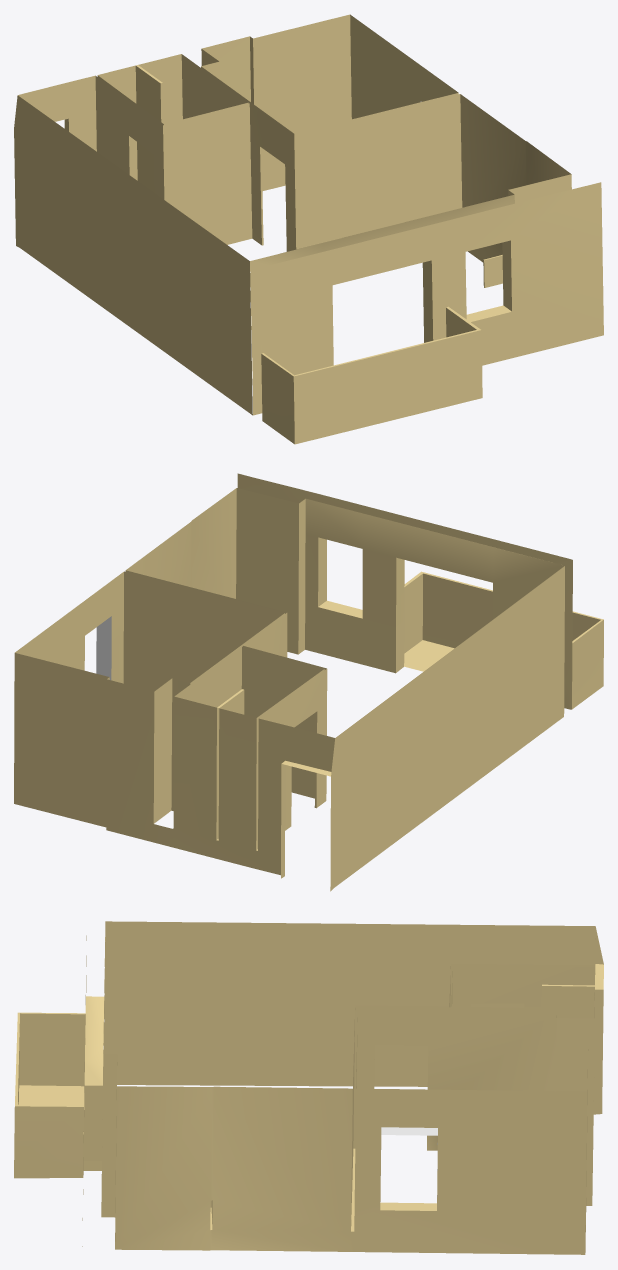
File: 3ANDAR FIX3.fbx
The picture shows the model from 3 angles, top to bottom: view 1: azimuth 30°, elevation 25°; view 2: azimuth 150°, elevation 25°; view 3: azimuth 270°, elevation 25°; orthographic projection. The views are drawn at different scales.
Parts seen in each view (by area): view 1: 3ºAndar; view 2: 3ºAndar; view 3: 3ºAndar.
Part boxes in pixels (<box>): 3ºAndar: <box>14,14,603,444</box>; 3ºAndar: <box>14,473,603,891</box>; 3ºAndar: <box>14,921,603,1254</box>.
Bounding box in the file's own units: 789 × 350 × 1103.
